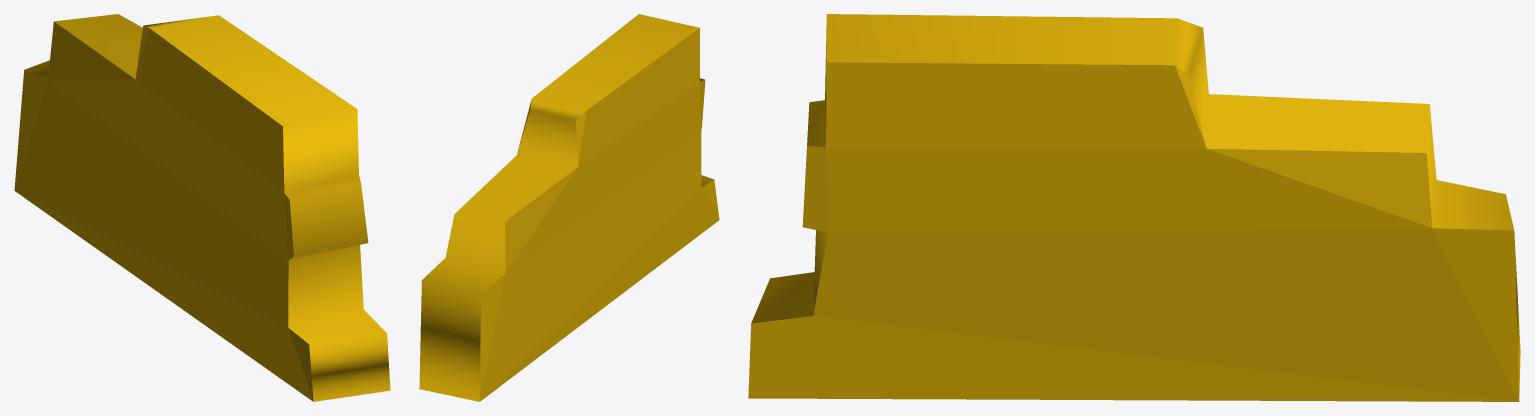
The model's file is Wall_Break_01C_Lod1.fbx.
3 views of the same model, side by side, from view 1: azimuth 30°, elevation 25°; view 2: azimuth 150°, elevation 25°; view 3: azimuth 270°, elevation 25° (orthographic). The views are drawn at different scales.
Parts seen in each view (by area): view 1: Wall_Break_01C_Lod1; view 2: Wall_Break_01C_Lod1; view 3: Wall_Break_01C_Lod1.
Part boxes in pixels (x1,y1,x2,y2): Wall_Break_01C_Lod1: [14, 14, 390, 401]; Wall_Break_01C_Lod1: [419, 14, 719, 401]; Wall_Break_01C_Lod1: [748, 14, 1520, 401].
Bounding box in the file's own units: 165 × 539 × 1107.
